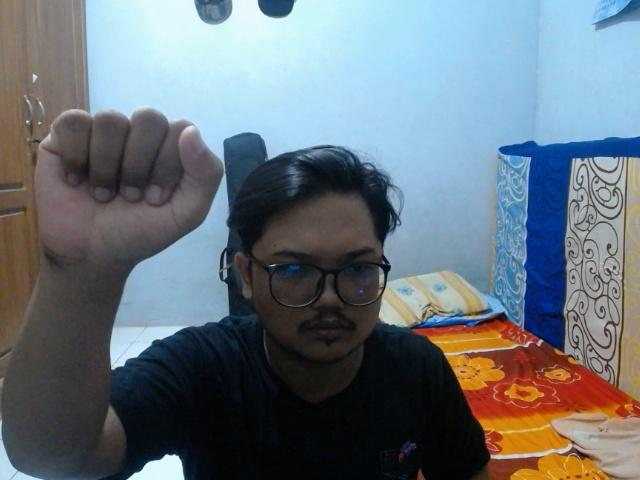Grab: (30, 100, 227, 274)
